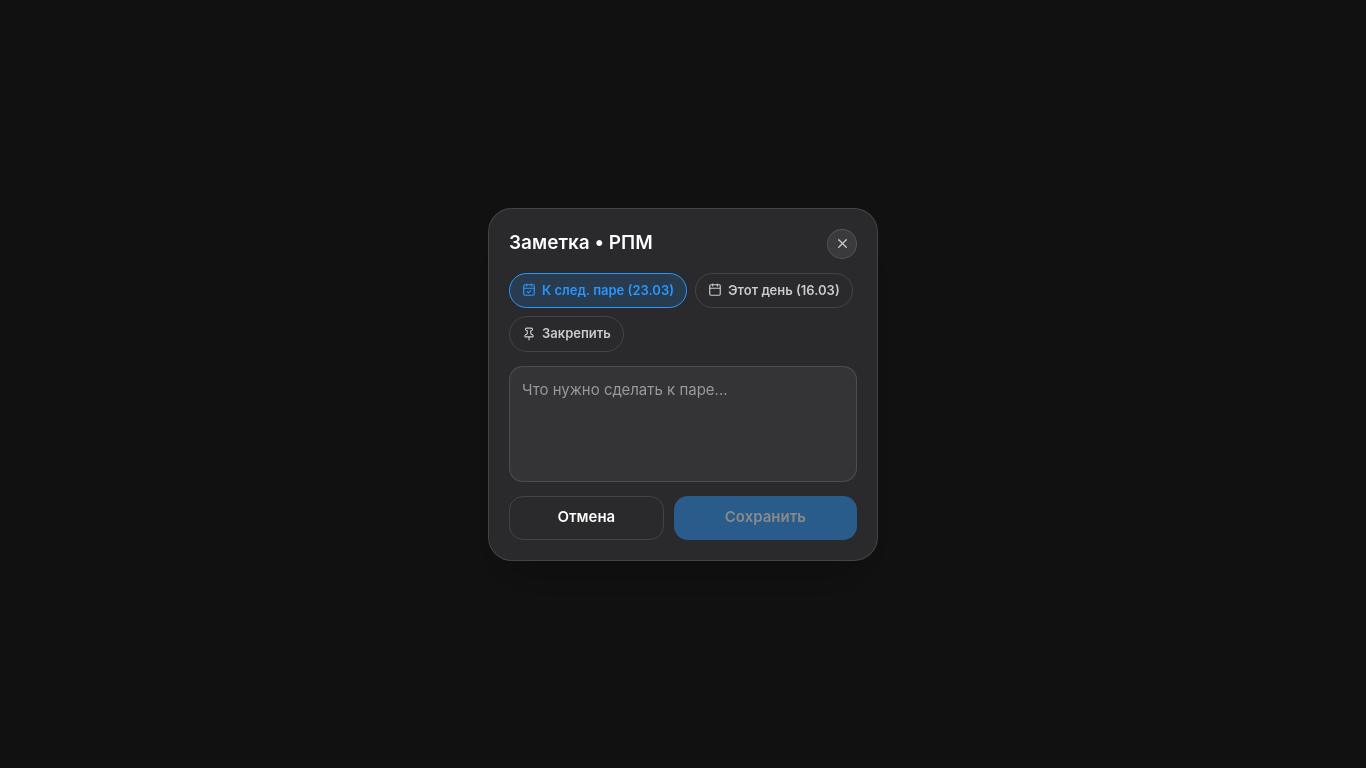
Test case: M3 Screens & Schedule Components › Schedule Components (LessonCard, SessionExamCard, LessonDetailModal, QuickNoteModal) › renders QuickNoteModal with next lesson chip, pin toggle, and saves note with inferred type
Later steps or results of the test are not shown.
Expected: the heading "Заметка • РПМ" is shown, [509, 229, 653, 258]
Expected: the button "Сохранить" is disabled, [674, 496, 857, 540]
Click the button "Закрепить". click: (566, 334)
box: [509, 316, 624, 352]
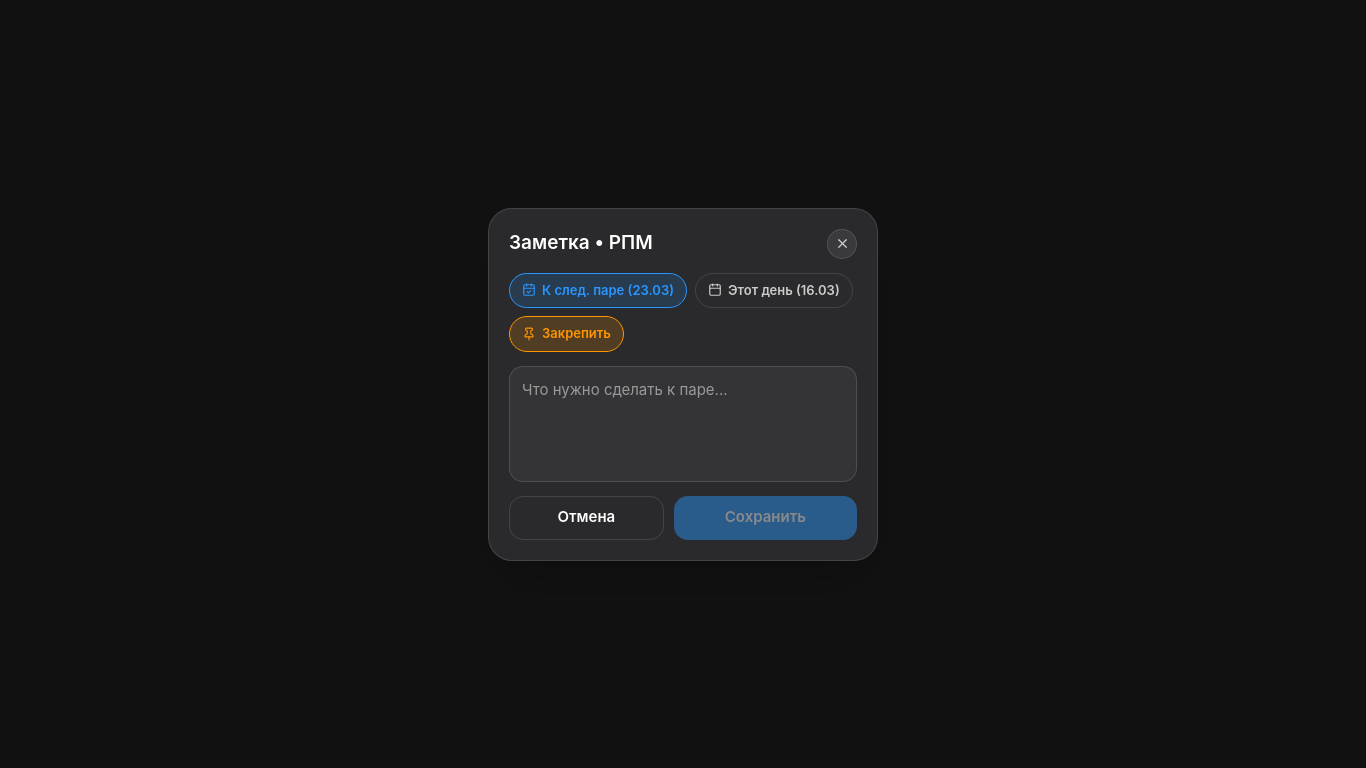
Type "Сделать лабу к паре" into the text box with placeholder "Что нужно сделать к паре...". click: (683, 424)
box: [509, 366, 857, 482]
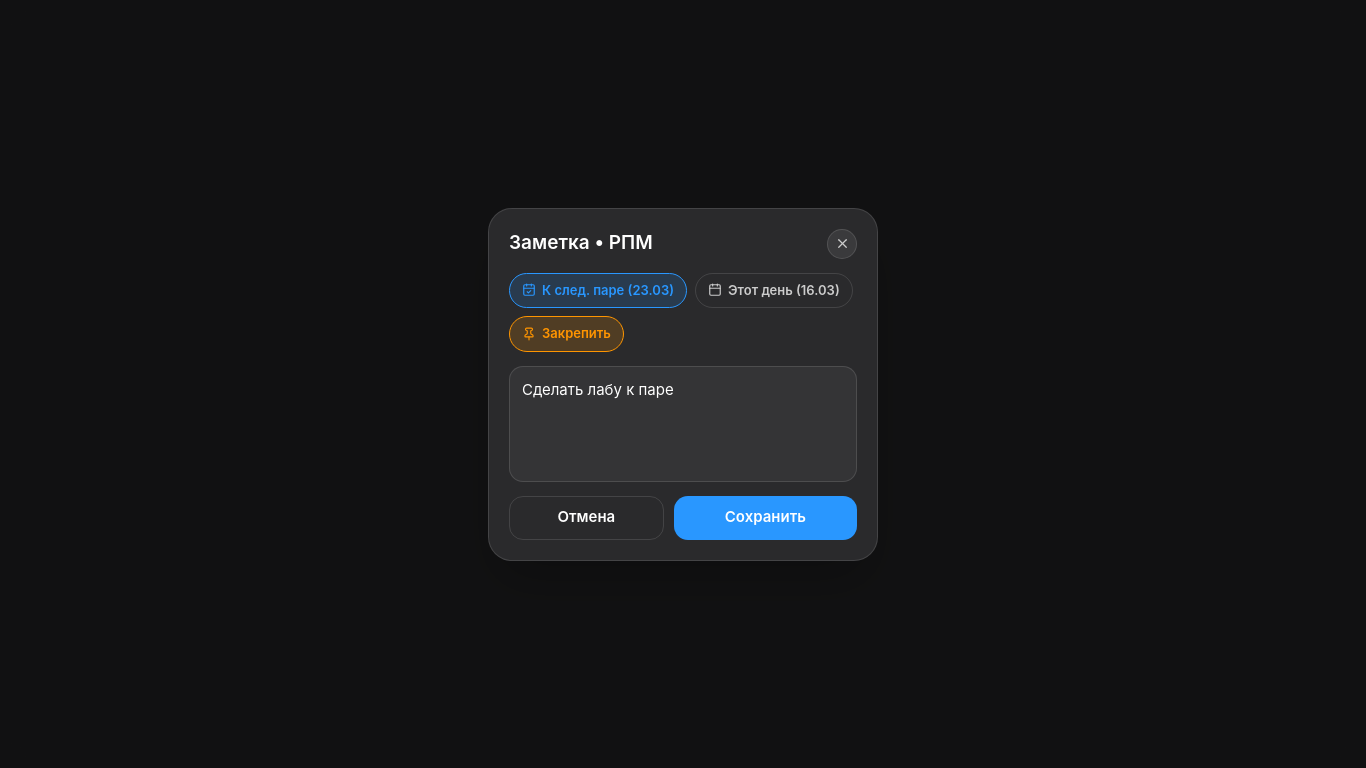
Expected: the button "Сохранить" is enabled, [674, 496, 857, 540]
